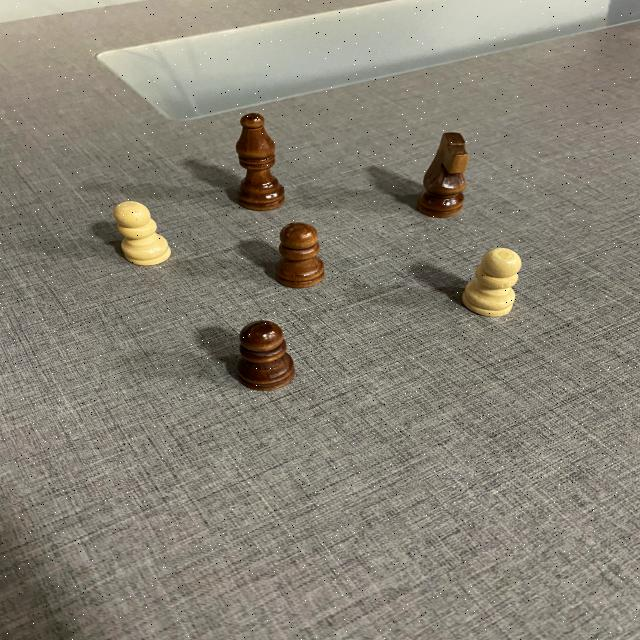Black-Bishop: (238, 113, 284, 210)
Black-Knight: (417, 130, 471, 218)
Black-Pawn: (237, 321, 300, 389), (278, 222, 324, 286)
White-Pawn: (462, 247, 522, 317), (111, 201, 171, 266)
